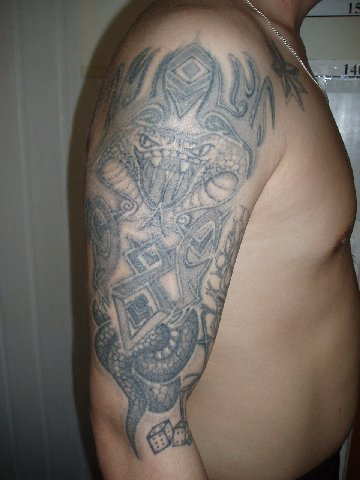tatu7_zmeya: (102, 54, 251, 437)
